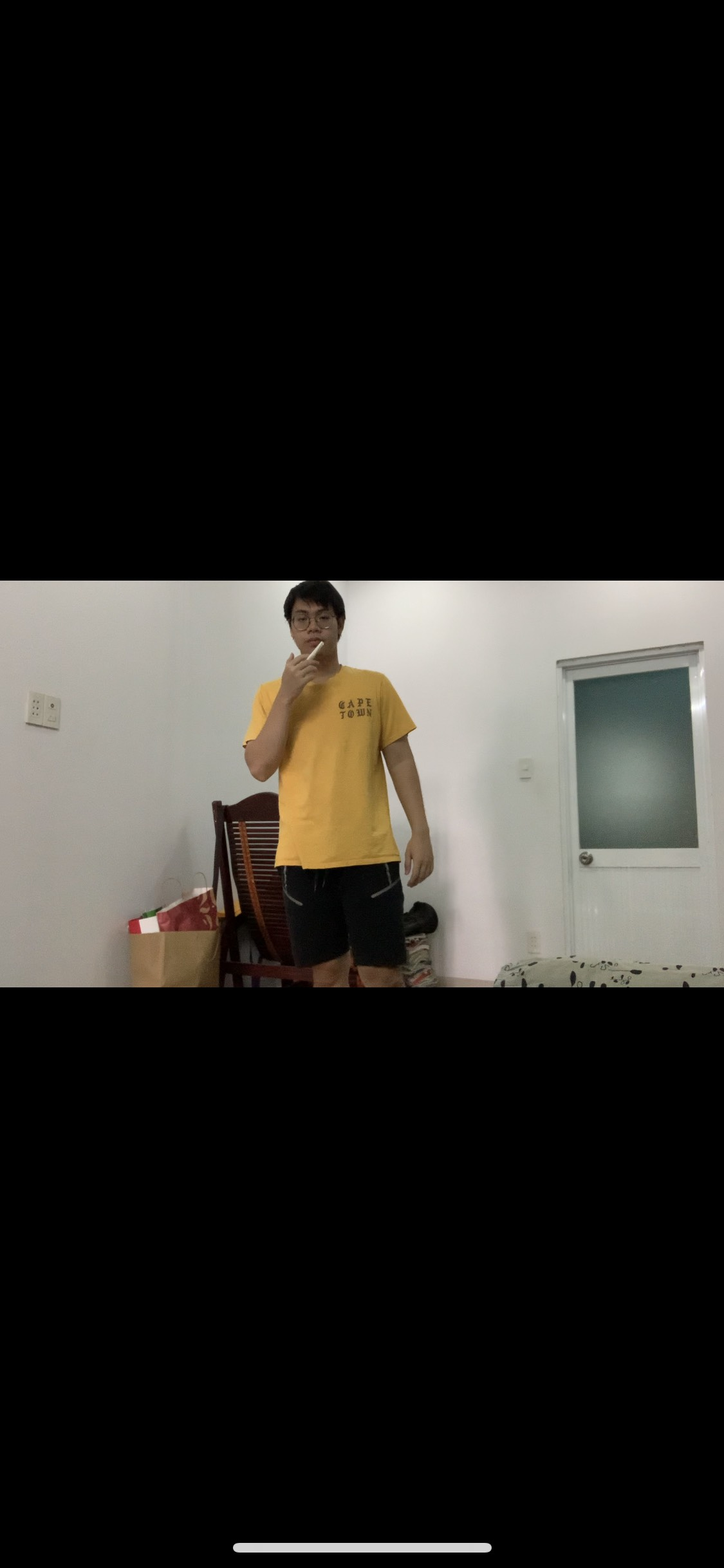cigarette: (307, 639, 327, 662)
person: (245, 578, 434, 980)
